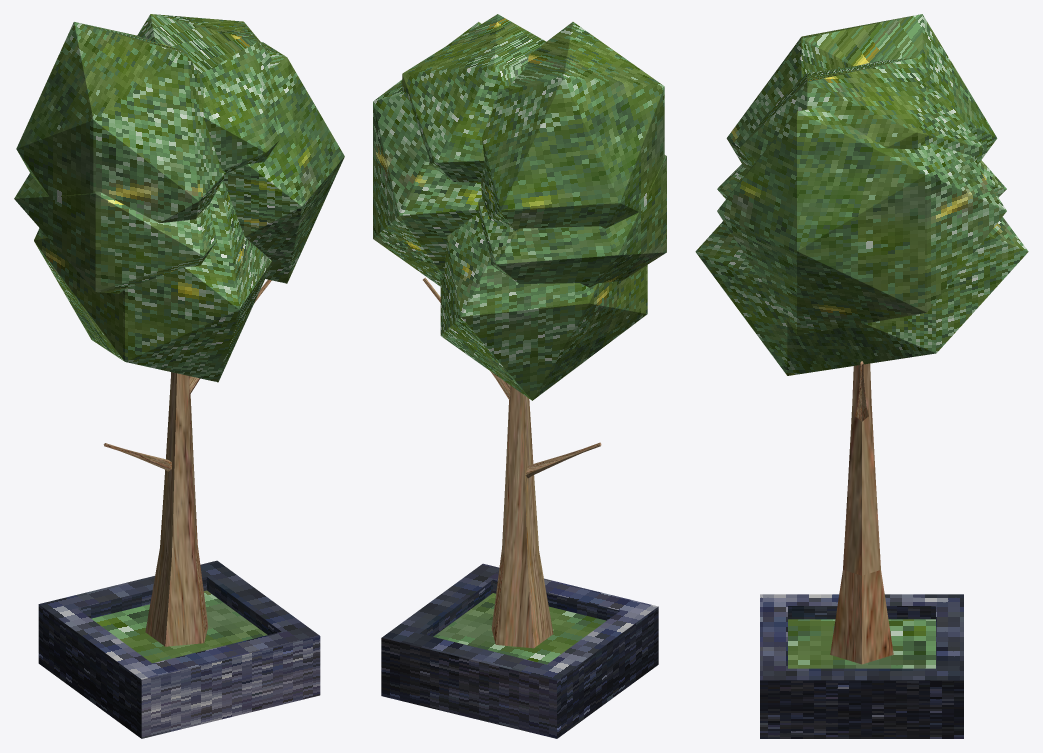
Rendered from TREE1.fbx.
3 views of the same model, side by side, from view 1: azimuth 30°, elevation 25°; view 2: azimuth 150°, elevation 25°; view 3: azimuth 270°, elevation 25° (orthographic).
Parts seen in each view (by area): view 1: TREE1; view 2: TREE1; view 3: TREE1.
Boxes of the visible parts, x1,y1,x2,y2 form: TREE1: (14,14,344,738); TREE1: (373,14,666,738); TREE1: (695,14,1028,738).
Bounding box in the file's own units: 38.6 × 90.9 × 42.52.
